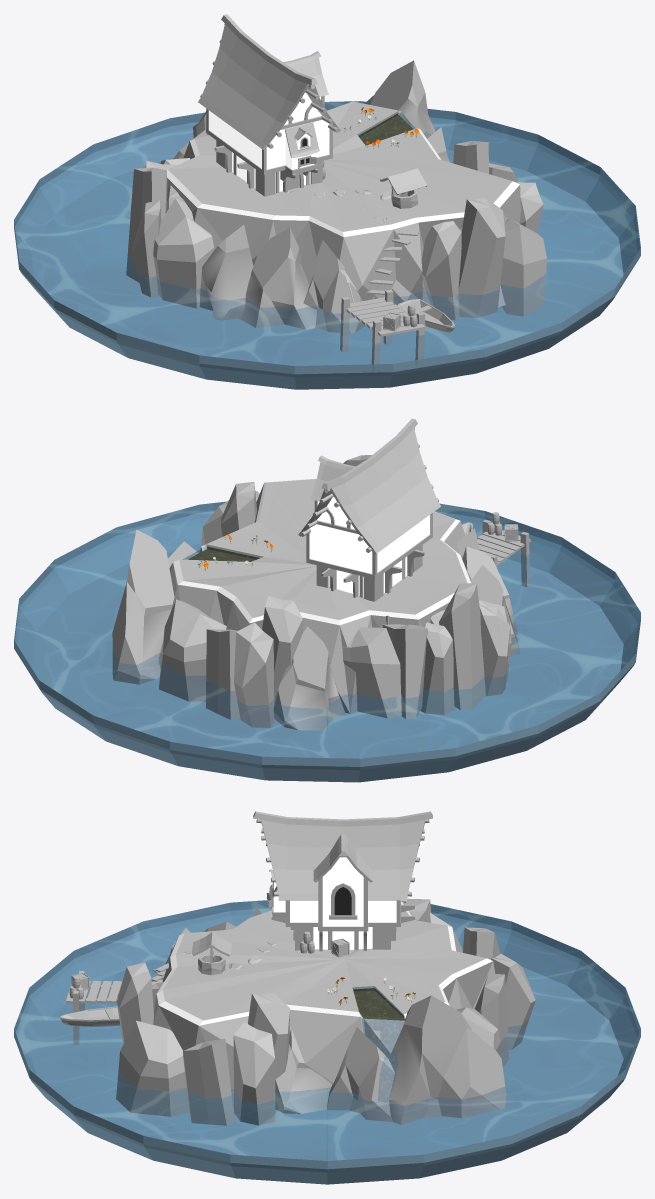
The picture shows the model from 3 angles, top to bottom: view 1: azimuth 30°, elevation 25°; view 2: azimuth 150°, elevation 25°; view 3: azimuth 270°, elevation 25°; orthographic projection.
Parts seen in each view (by area): view 1: pDisc1, polySurface32, polySurface10, well, polySurface1, pCube22; view 2: pDisc1, polySurface32, polySurface10, polySurface1; view 3: pDisc1, polySurface32, polySurface10, polySurface1, well, pCube22.
Boxes of the visible parts, x1,y1,x2,y2 form: pDisc1: (14,101,640,389); polySurface32: (126,60,546,333); polySurface10: (198,14,340,196); well: (380,168,427,208); polySurface1: (359,113,430,144); pCube22: (397,299,454,332); pDisc1: (14,501,640,782); polySurface32: (112,455,520,730); polySurface10: (298,418,440,601); polySurface1: (183,546,258,561); pDisc1: (14,900,640,1184); polySurface32: (116,898,535,1125); polySurface10: (253,811,432,951); polySurface1: (353,988,404,1102); well: (192,932,231,975); pCube22: (60,1006,120,1026).
Size of the model in its own units: 31.42 by 12.37 by 31.42.
